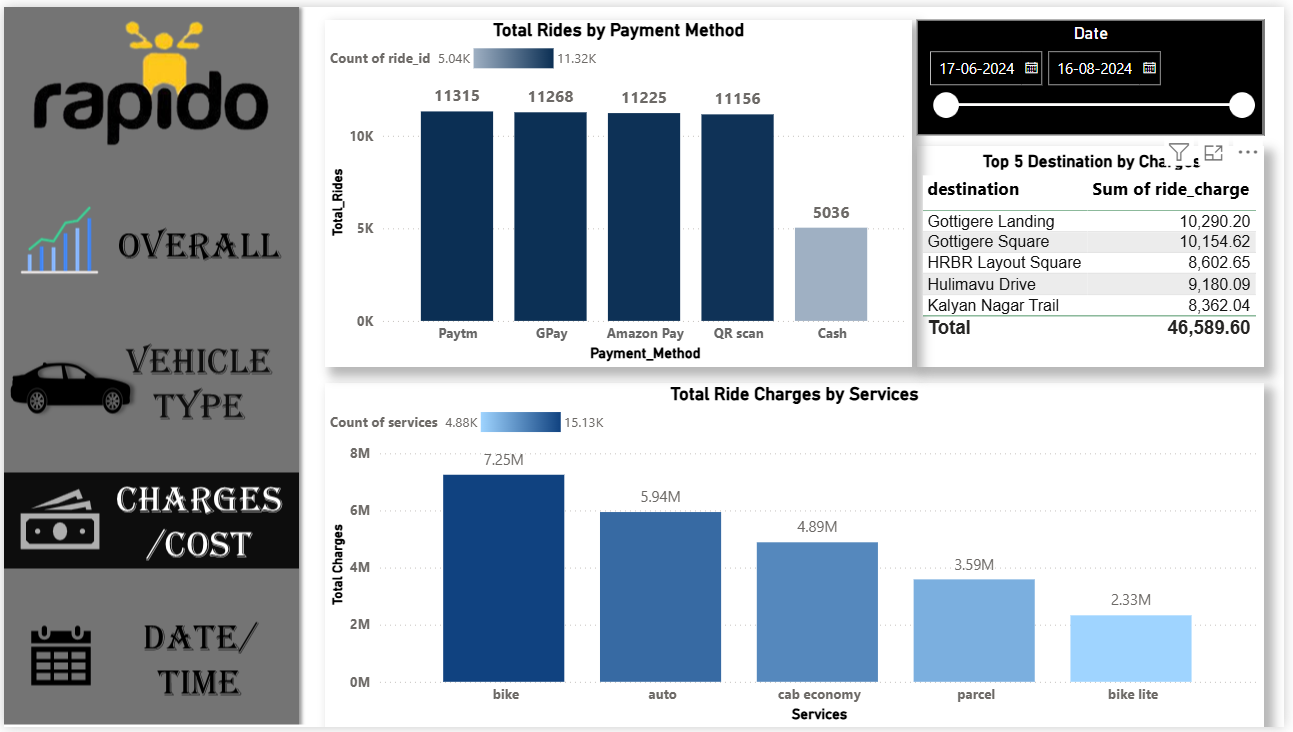

The page's visual inventory and layout, read from the dashboard file:
{"tool":"powerbi","page":{"name":"Cost/Charges","canvas":[1280,720],"ordinal":2},"visuals":[{"type":"actionButton","box":[0,185.4,297,101],"z":0},{"type":"actionButton","box":[0,325.4,297,101],"z":1000},{"type":"actionButton","box":[1,462,297,101],"z":2000},{"type":"actionButton","box":[0,600,297,101],"z":3000},{"type":"columnChart","title":"Total Ride Charges by Services","fields":{"Category":["Sheet1.services"],"Y":["Sum(Sheet1.ride_charge)"]},"box":[321.4,375.7,938.6,344.3],"z":4000},{"type":"columnChart","title":"Total Rides by Payment Method","fields":{"Y":["CountNonNull(Sheet1.ride_id)"],"Category":["Sheet1.payment_method"]},"box":[321.4,12.9,587.1,347.1],"z":5000},{"type":"tableEx","title":"Top 5 Destination by Charges","fields":{"Values":["Sheet1.destination","Sum(Sheet1.ride_charge)"]},"box":[912.9,138.6,347.1,221.4],"z":6000},{"type":"slicer","title":"Date","fields":{"Values":["Sheet1.date"]},"box":[912.9,12.9,347.1,115.7],"z":7000}]}

Visuals, with their boxes in screenshot pixels (x1, y1, x2, y2), scaled from the page's 1280x720 canvas onto the 1293x732 screenshot:
actionButton: detection(0, 188, 300, 291)
actionButton: detection(0, 331, 300, 434)
actionButton: detection(1, 470, 301, 572)
actionButton: detection(0, 610, 300, 713)
"Total Ride Charges by Services" columnChart: detection(325, 382, 1273, 731)
"Total Rides by Payment Method" columnChart: detection(325, 13, 918, 366)
"Top 5 Destination by Charges" tableEx: detection(922, 141, 1273, 366)
"Date" slicer: detection(922, 13, 1273, 131)
